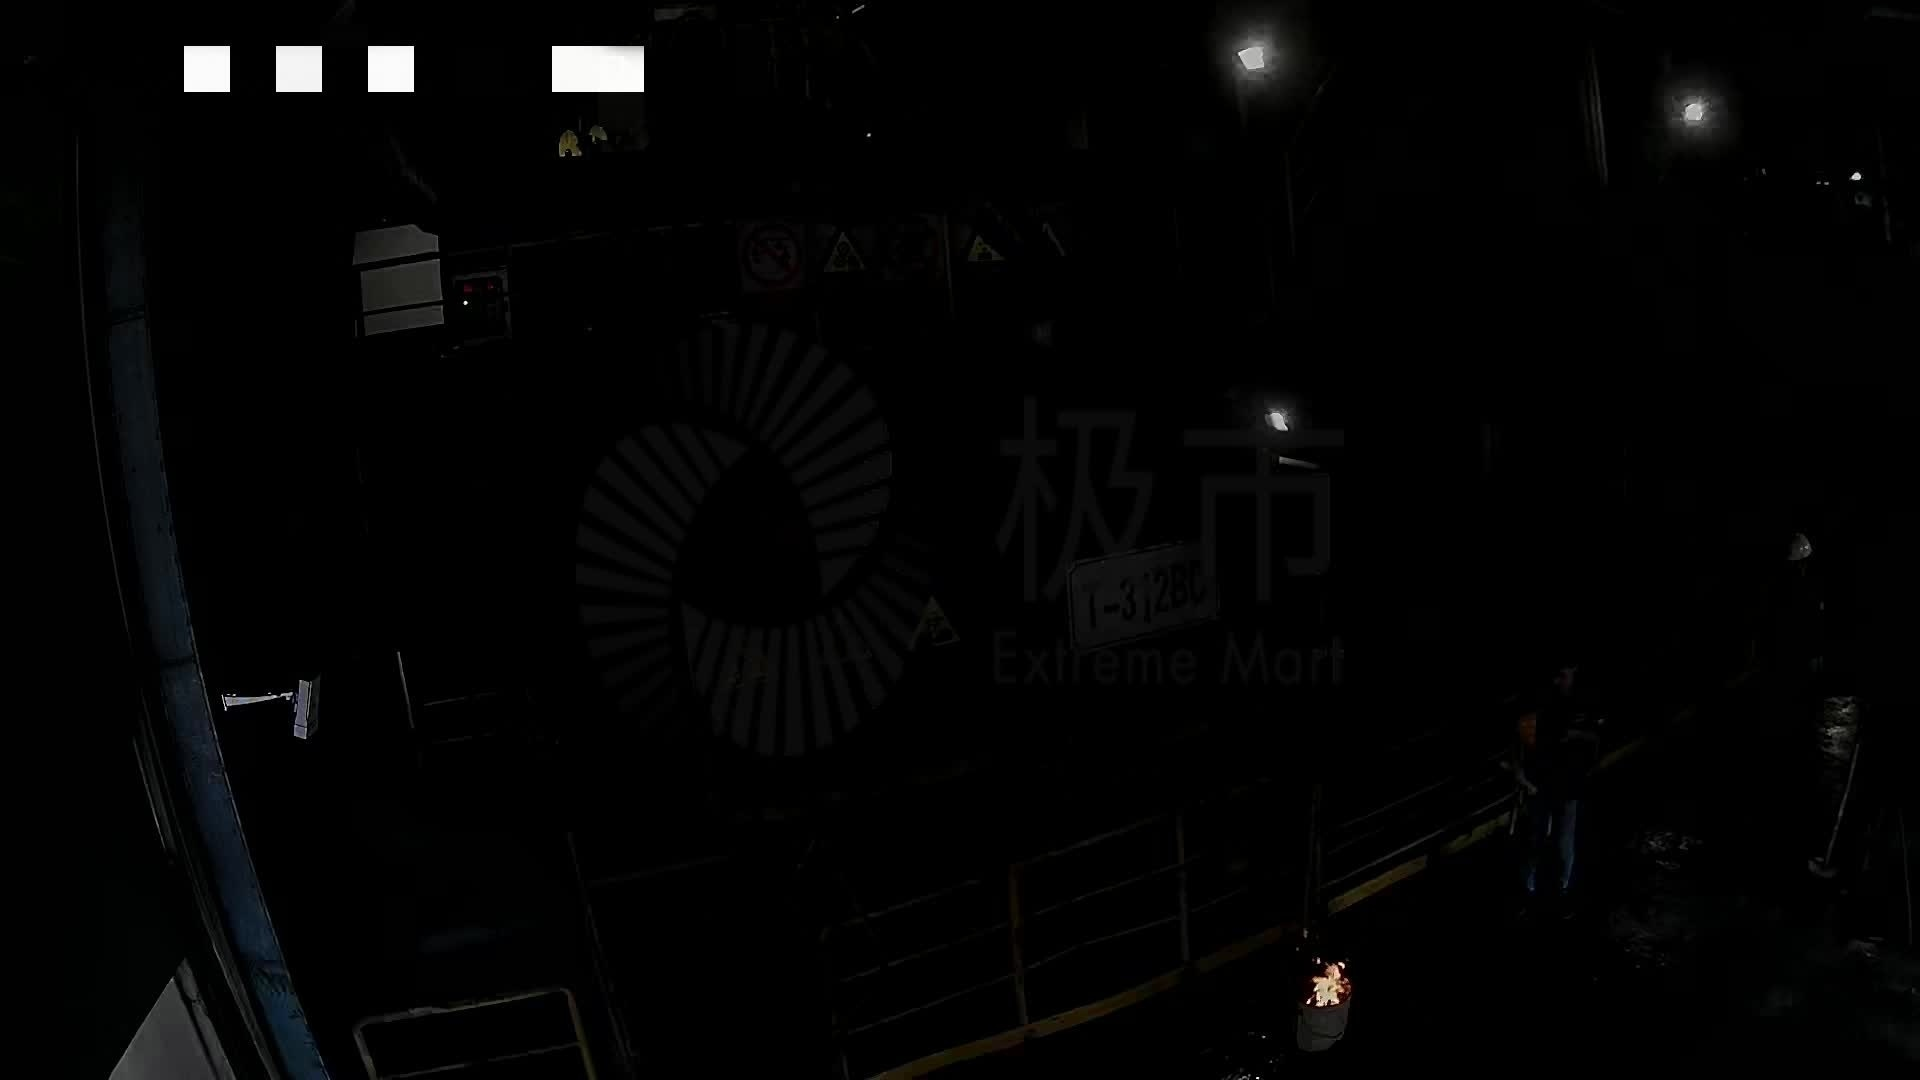fire: (1299, 949, 1357, 1010)
